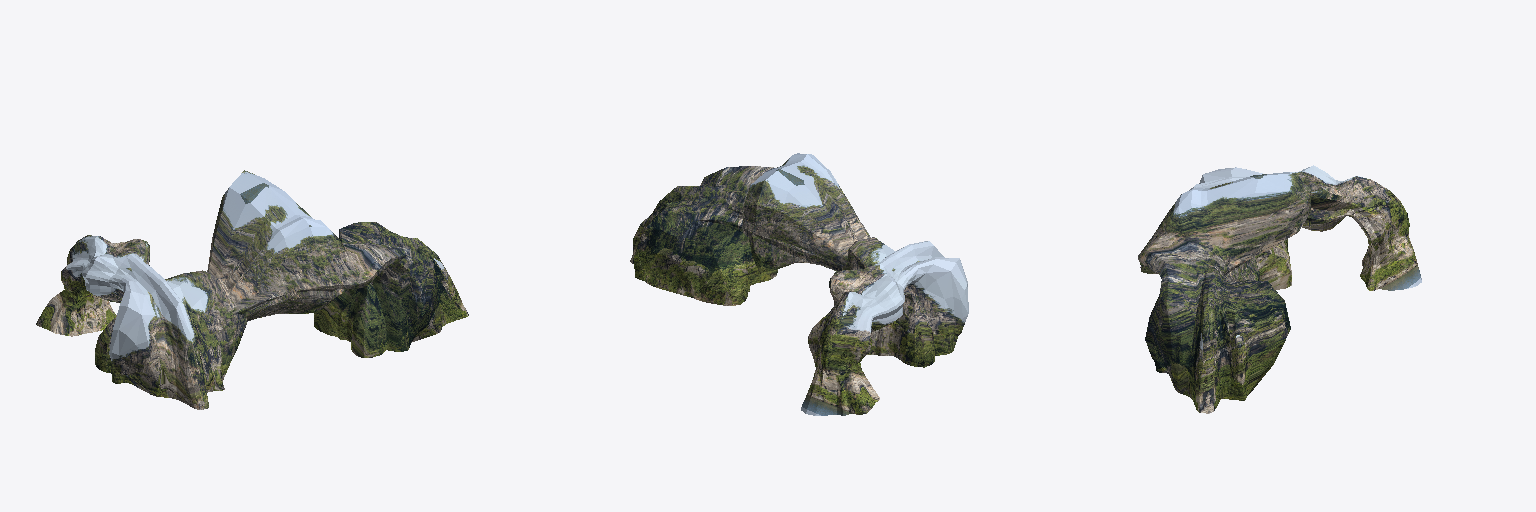
3 renders of one model, left to right at view 1: azimuth 30°, elevation 25°; view 2: azimuth 150°, elevation 25°; view 3: azimuth 270°, elevation 25°, orthographic.
Visible parts, largest first — view 1: Rock_1; view 2: Rock_1; view 3: Rock_1.
Part boxes in pixels (bbox=[...]): Rock_1: bbox=[36, 170, 468, 409]; Rock_1: bbox=[630, 153, 968, 415]; Rock_1: bbox=[1138, 165, 1421, 413].
Size of the model in its own units: 1.35 by 0.6017 by 0.9555.
1 materials, 1 textured.